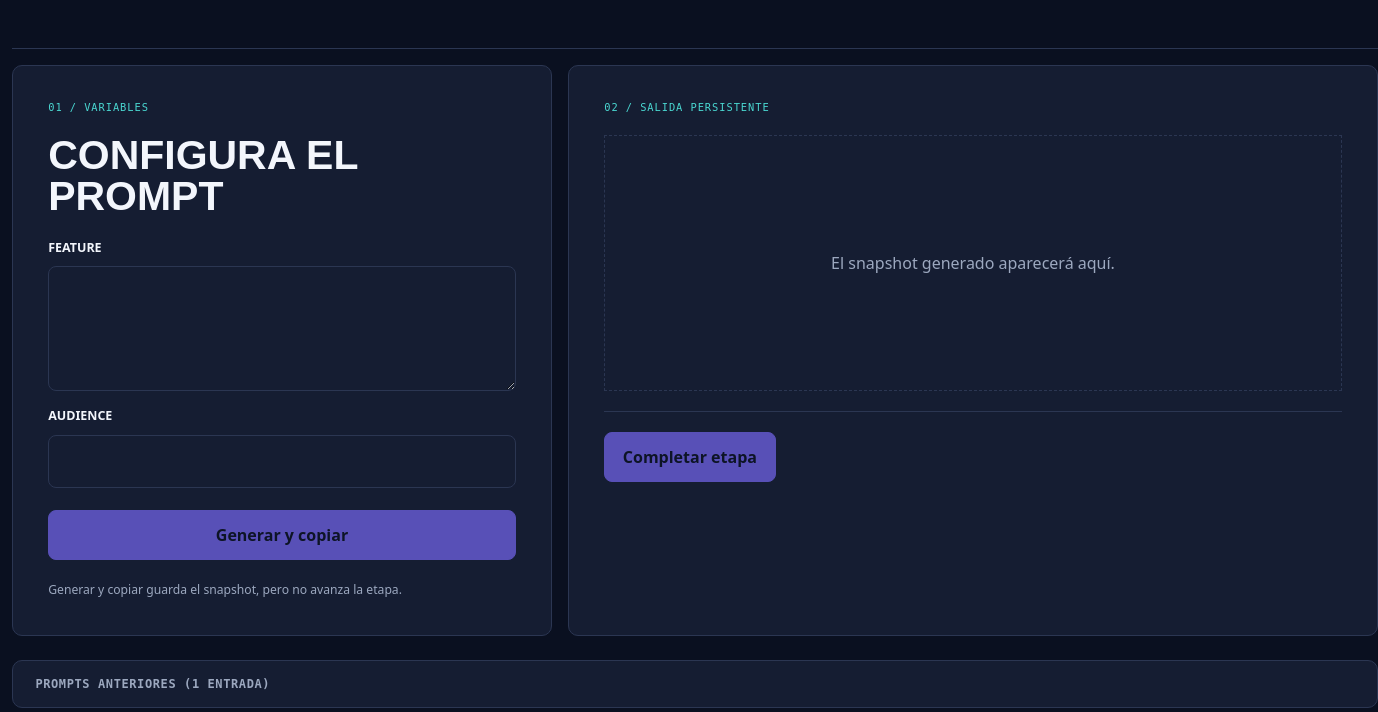
it: WorkflowWizard › genera y copia el snapshot exacto automáticamente sin avanzar la etapa
(page scrolled)
In the text box labelled "FEATURE": (282, 329) [48,266,516,391], type "offline"
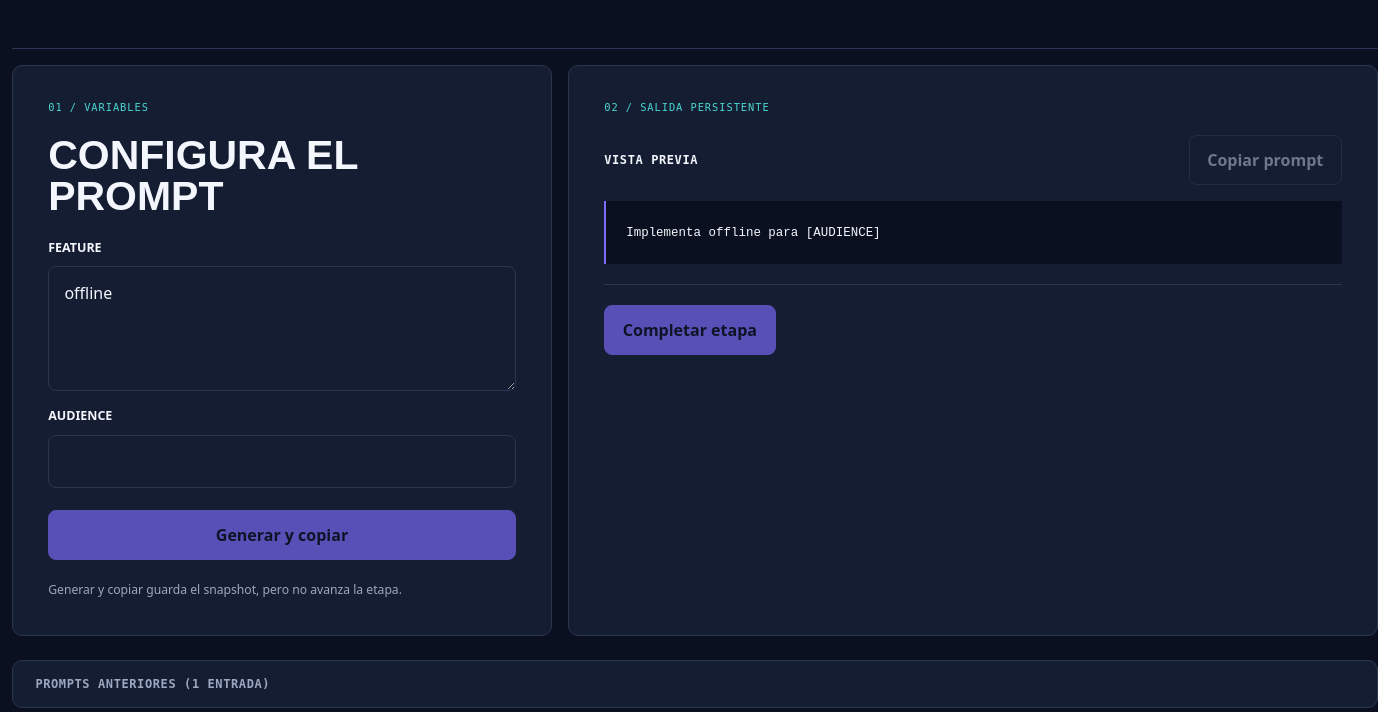
In the field labelled "AUDIENCE": (282, 461) [48,435,516,488], type "equipos"
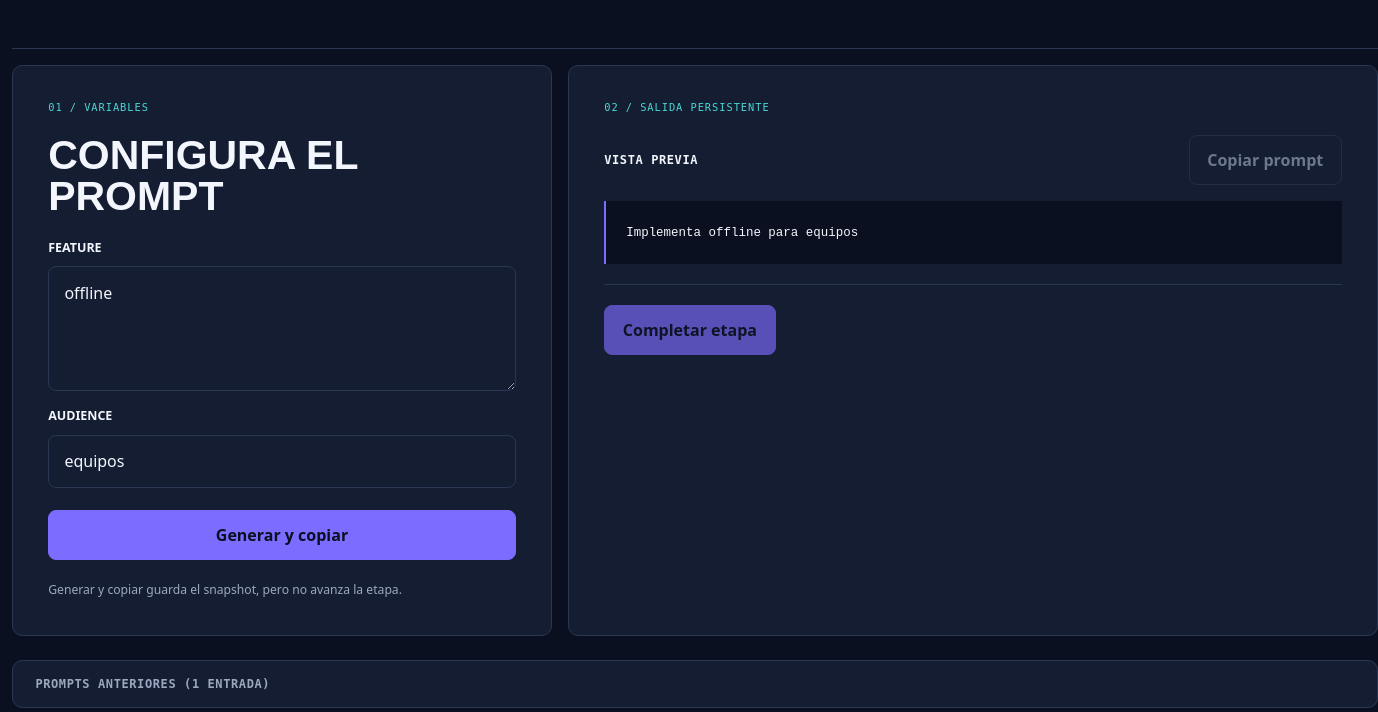
Click the button "Generar y copiar": (282, 535) [48,510,516,560]
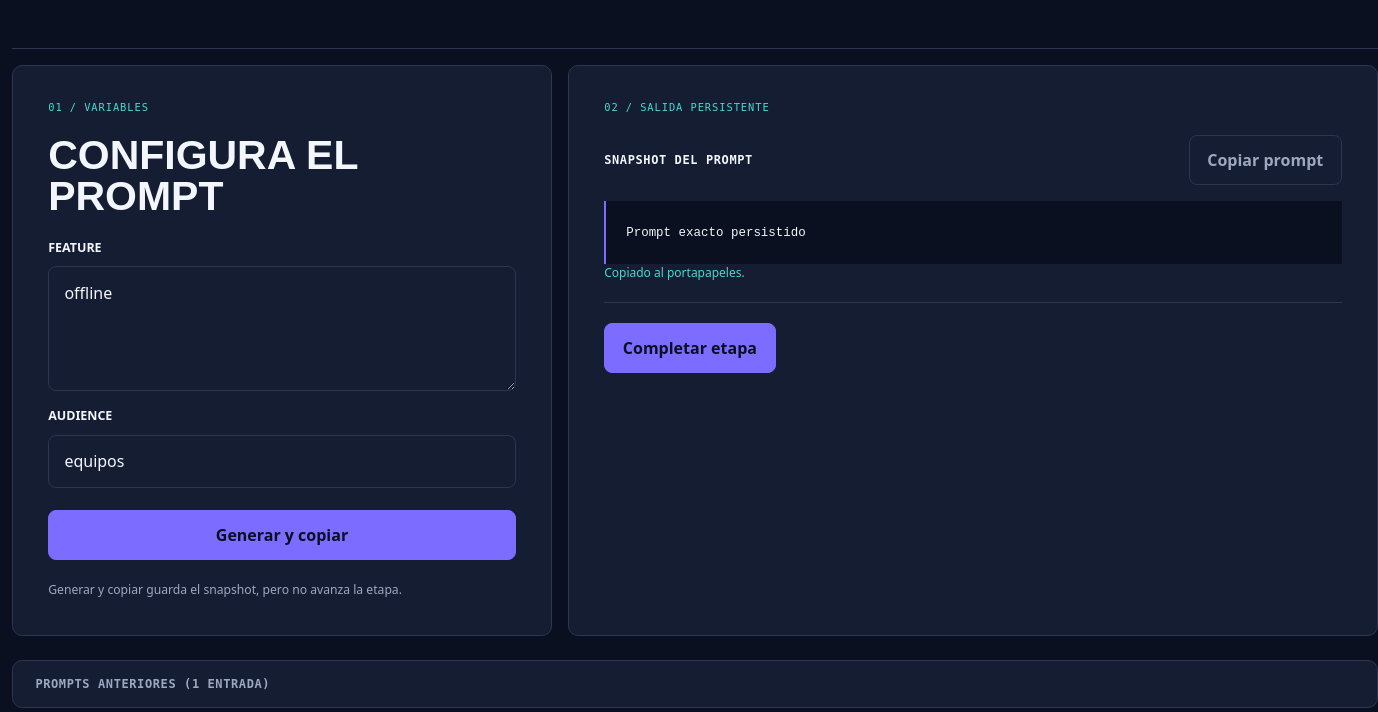
Result: the text "Prompt exacto persistido" is shown at [626,226,806,240]
